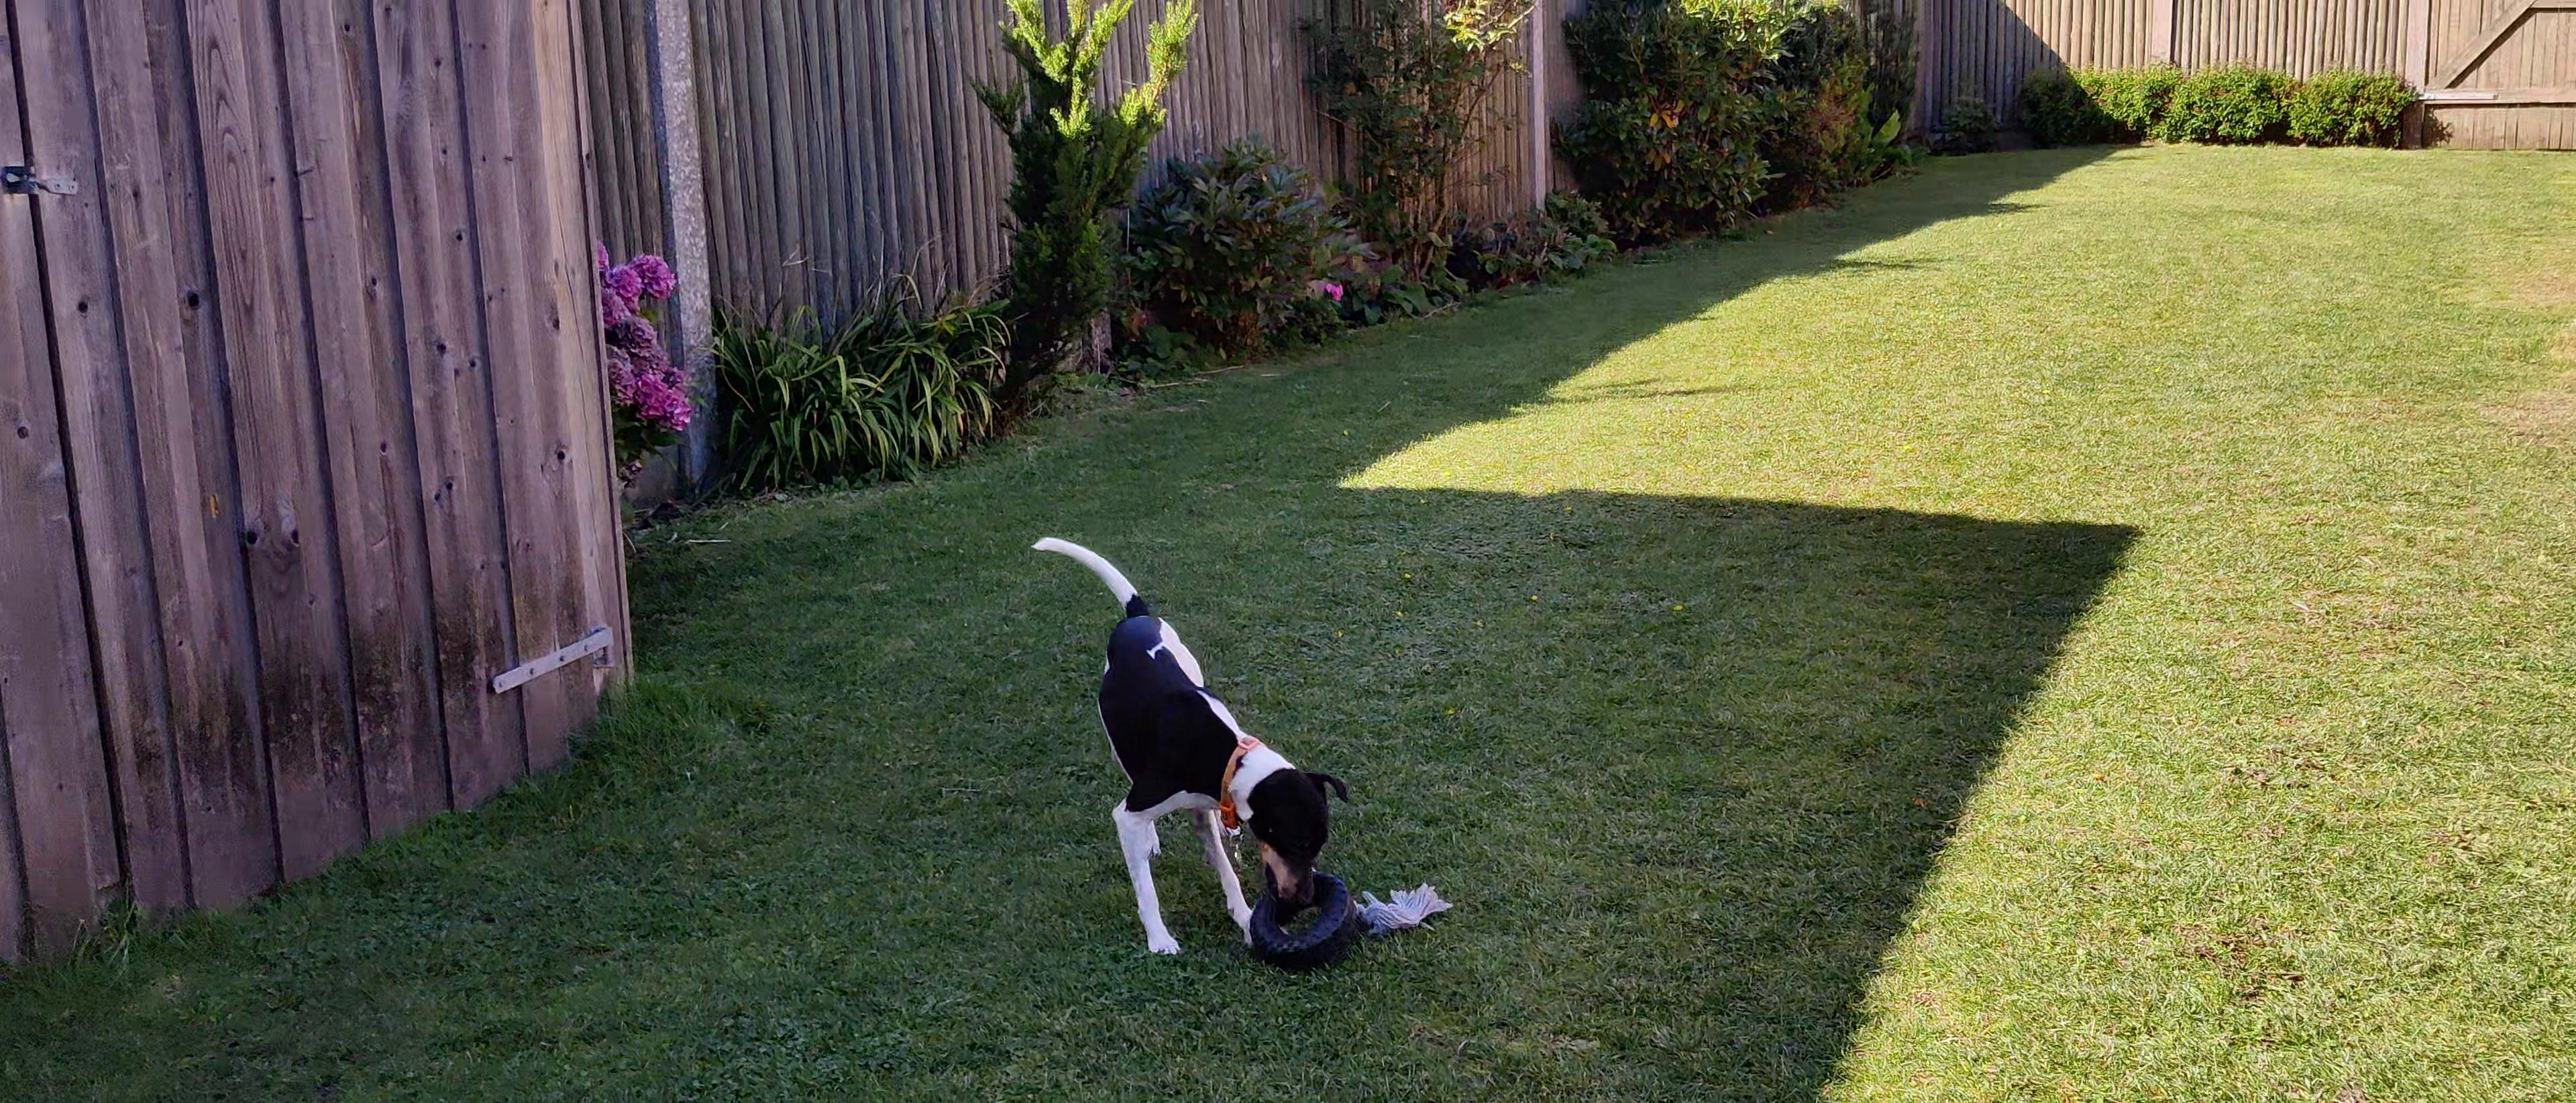Dog: (1019, 526, 1362, 970)
